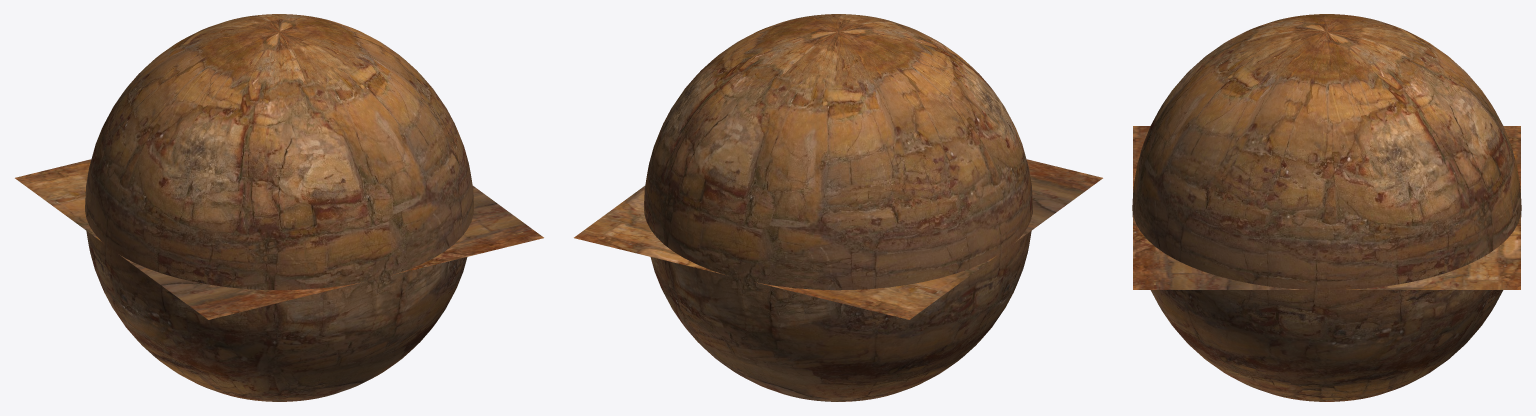
The model's file is cliff_side.glb.
The picture shows the model from 3 angles, left to right: view 1: azimuth 30°, elevation 25°; view 2: azimuth 150°, elevation 25°; view 3: azimuth 270°, elevation 25°; orthographic projection.
Visible parts, largest first — view 1: Sphere, Plane; view 2: Sphere, Plane; view 3: Sphere, Plane.
Part boxes in pixels (x1,y1,x2,y2): Sphere: (85, 14, 473, 401); Plane: (15, 159, 543, 319); Sphere: (644, 14, 1032, 401); Plane: (574, 159, 1102, 319); Sphere: (1132, 14, 1521, 401); Plane: (1133, 126, 1520, 289).
Bounding box in the file's own units: 1.84 × 1.83 × 1.84.
1 material, 1 textured.
